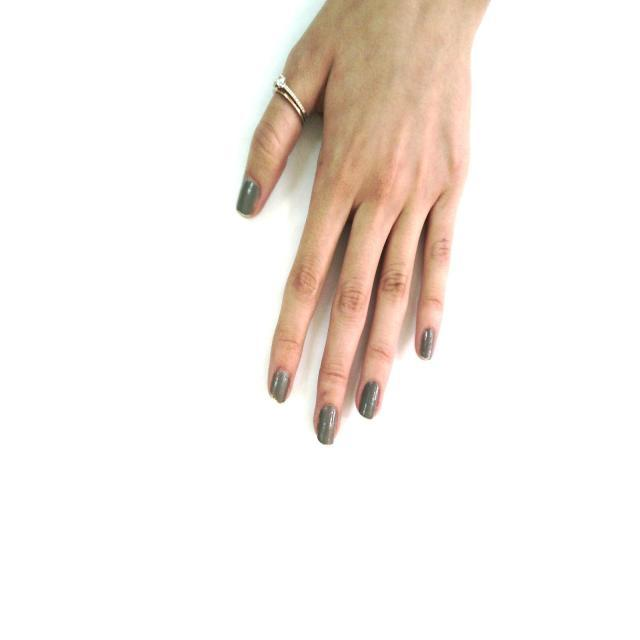Fingernail: (237, 179, 260, 215), (317, 405, 336, 446), (360, 381, 380, 418), (272, 369, 290, 402), (419, 328, 434, 359)
